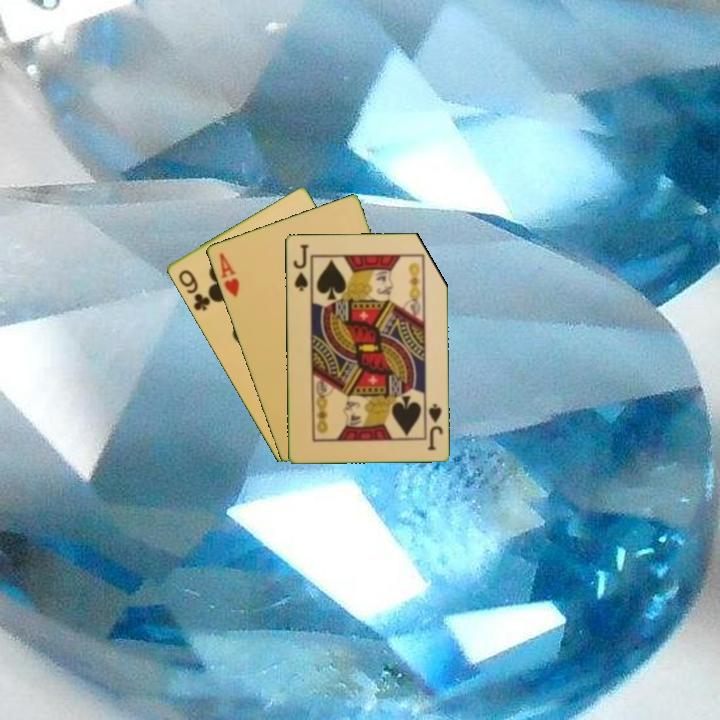9c: (174, 266, 213, 314)
Ah: (215, 249, 242, 300)
Js: (290, 240, 311, 294), (424, 400, 445, 452)
